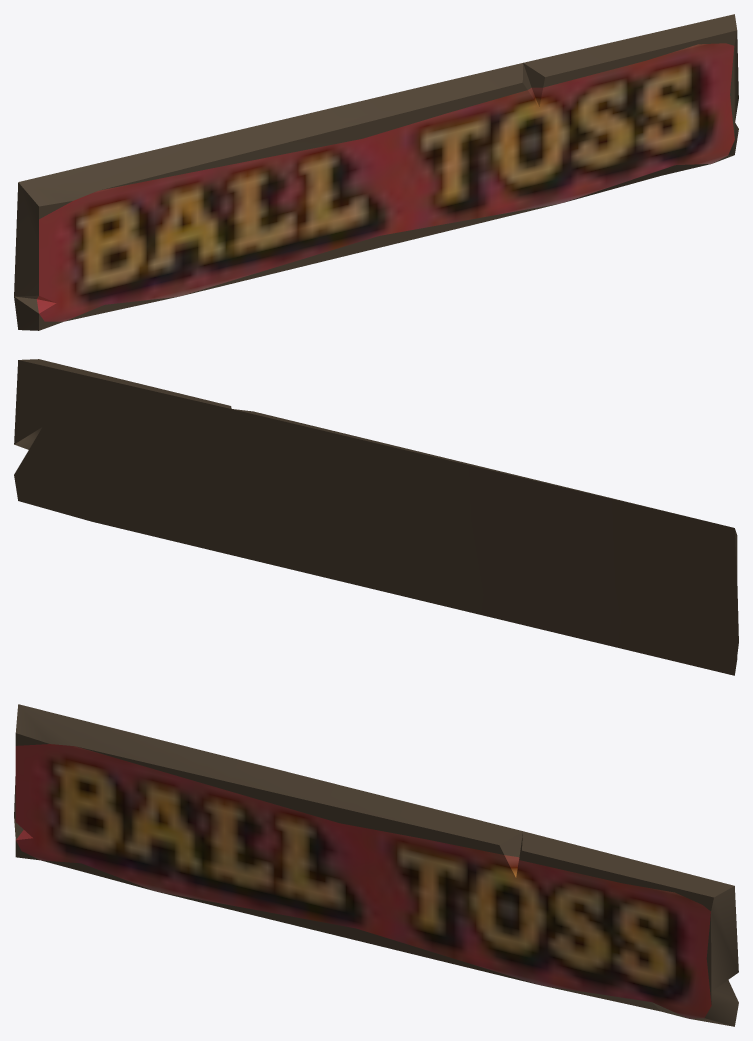
Rendered from SM_Prop_Sign_Ball_Toss_01.glb.
The picture shows the model from 3 angles, top to bottom: view 1: azimuth 30°, elevation 25°; view 2: azimuth 150°, elevation 25°; view 3: azimuth 330°, elevation 25°; orthographic projection.
Parts seen in each view (by area): view 1: SM_Prop_Sign_Ball_Toss_01; view 2: SM_Prop_Sign_Ball_Toss_01; view 3: SM_Prop_Sign_Ball_Toss_01.
Boxes of the visible parts, x1,y1,x2,y2 form: SM_Prop_Sign_Ball_Toss_01: (14, 14, 738, 330); SM_Prop_Sign_Ball_Toss_01: (14, 359, 738, 675); SM_Prop_Sign_Ball_Toss_01: (14, 704, 738, 1026).
Bounding box in the file's own units: 223 × 44.31 × 6.34.
Materials: 1 (1 with a texture image).
